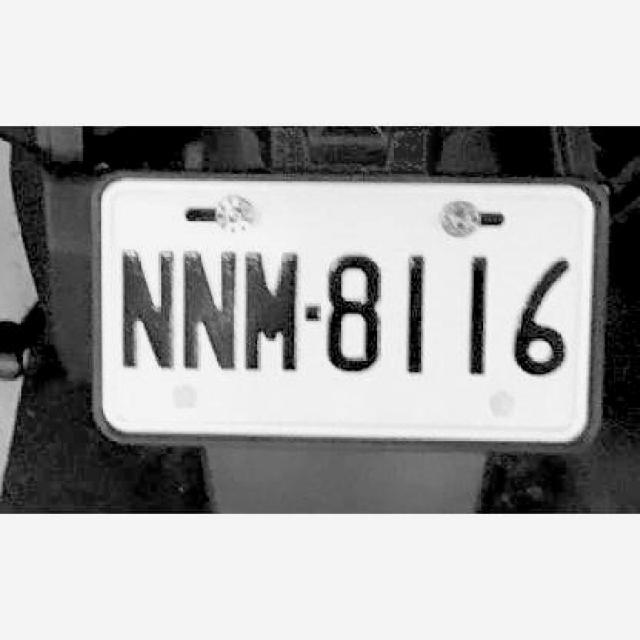-: (304, 298, 322, 322)
1: (399, 248, 426, 375), (466, 248, 491, 375)
6: (509, 251, 571, 378)
8: (323, 248, 382, 374)
M: (240, 249, 302, 374)
N: (180, 244, 240, 374), (116, 243, 176, 372)
